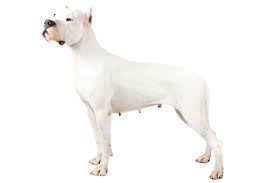dog: (37, 3, 235, 183)
